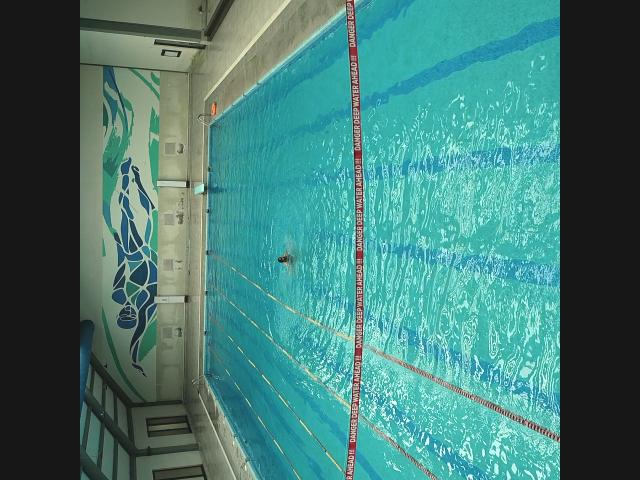swimming: (278, 250, 290, 268)
